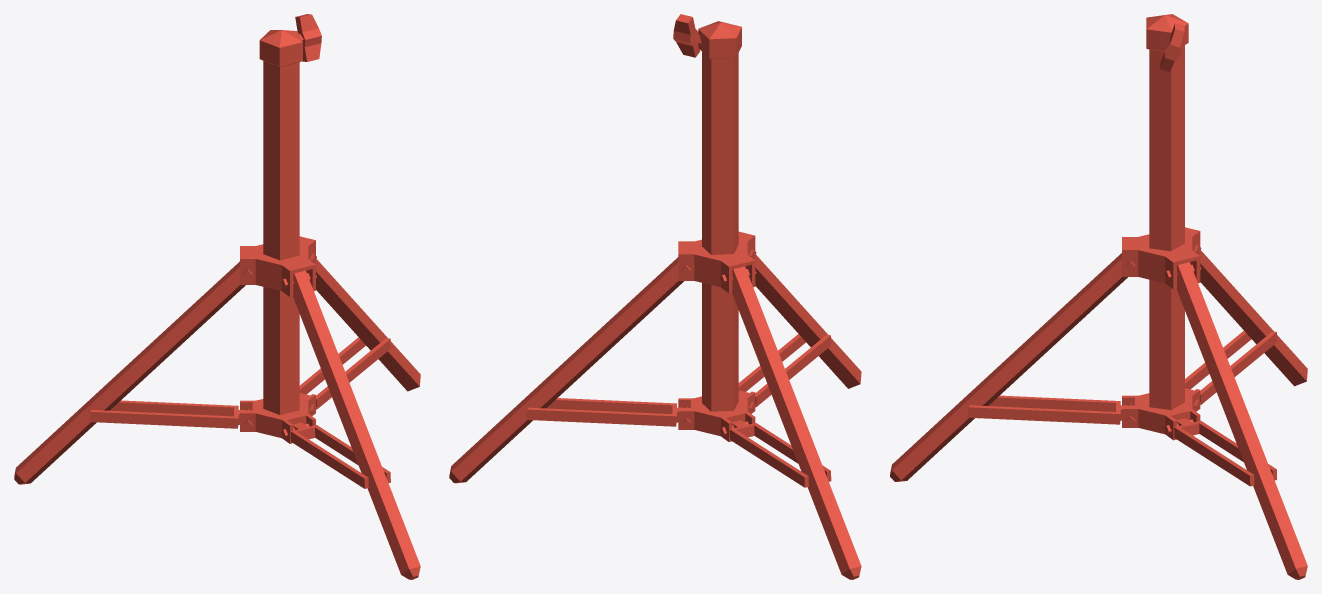
File: SM_Tripod_Universal_Base.fbx
The picture shows the model from 3 angles, left to right: view 1: azimuth 30°, elevation 25°; view 2: azimuth 150°, elevation 25°; view 3: azimuth 270°, elevation 25°; orthographic projection. The views are drawn at different scales.
Parts seen in each view (by area): view 1: SM_Tripod_Universal_Base; view 2: SM_Tripod_Universal_Base; view 3: SM_Tripod_Universal_Base.
Boxes of the visible parts, x1,y1,x2,y2 form: SM_Tripod_Universal_Base: (14, 14, 420, 579); SM_Tripod_Universal_Base: (449, 14, 861, 579); SM_Tripod_Universal_Base: (890, 14, 1307, 579).
Size of the model in its own units: 47.85 by 55 by 59.46.
